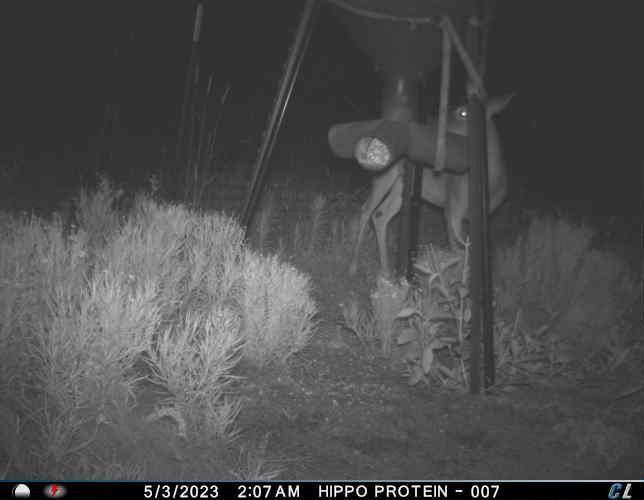Deer: (344, 85, 519, 283)
